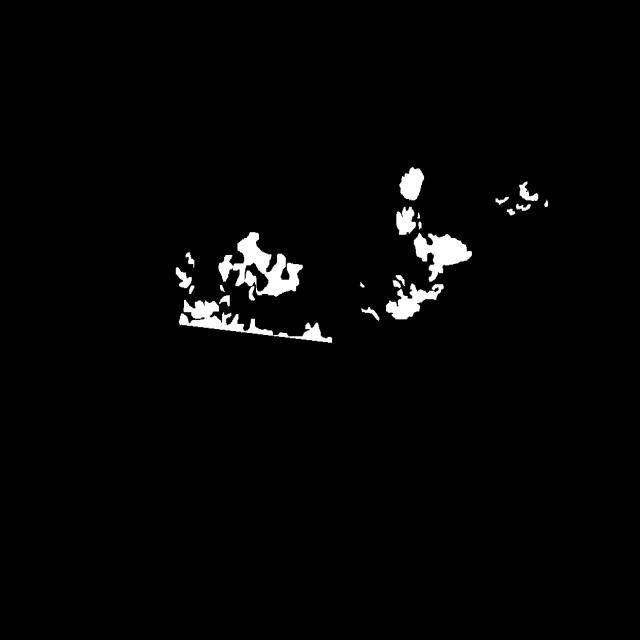fire: (136, 211, 555, 377)
